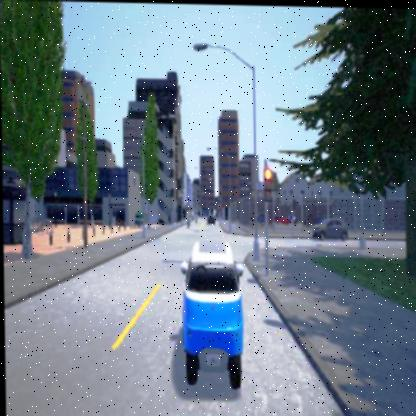vehicle: (179, 239, 243, 388), (310, 213, 347, 238), (205, 212, 215, 223)
